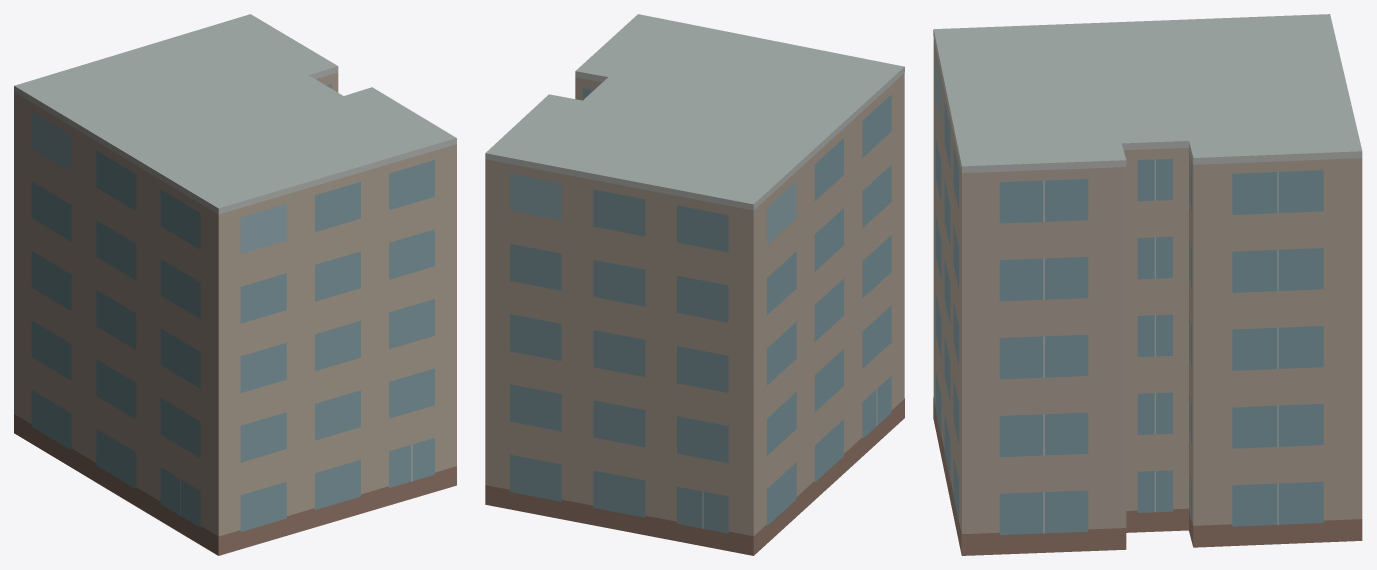
Rendered from survey-upis-32653990.glb.
3 views of the same model, side by side, from view 1: azimuth 30°, elevation 25°; view 2: azimuth 150°, elevation 25°; view 3: azimuth 270°, elevation 25° (orthographic). The views are drawn at different scales.
Parts seen in each view (by area): view 1: survey-upis-32653990.tmp; view 2: survey-upis-32653990.tmp; view 3: survey-upis-32653990.tmp.
Boxes of the visible parts, x1,y1,x2,y2 form: survey-upis-32653990.tmp: [14, 14, 456, 555]; survey-upis-32653990.tmp: [485, 14, 904, 555]; survey-upis-32653990.tmp: [933, 14, 1362, 555].
Size of the model in its own units: 11.71 by 13.95 by 13.93.
